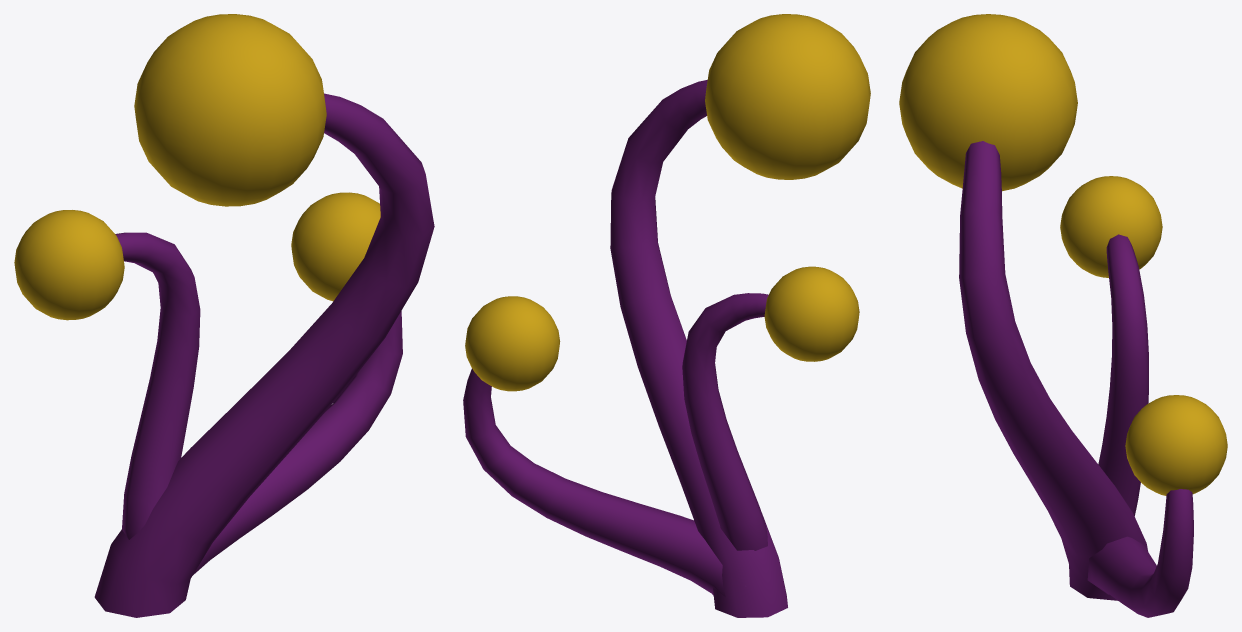
Rendered from Tree_Light_1-transformed.glb.
3 renders of one model, left to right at view 1: azimuth 30°, elevation 25°; view 2: azimuth 150°, elevation 25°; view 3: azimuth 270°, elevation 25°, orthographic. The views are drawn at different scales.
Visible parts, largest first — view 1: Tree_Light_1; view 2: Tree_Light_1; view 3: Tree_Light_1.
Boxes of the visible parts, x1,y1,x2,y2 form: Tree_Light_1: [14, 14, 434, 617]; Tree_Light_1: [463, 14, 870, 617]; Tree_Light_1: [899, 14, 1227, 617].
Bounding box in the file's own units: 2.63 × 3.76 × 1.96.
1 material, 1 textured.
